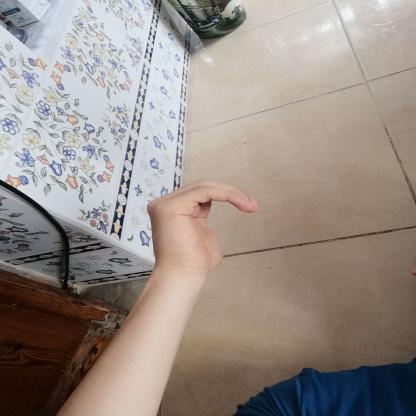HAA: (134, 171, 277, 283)
